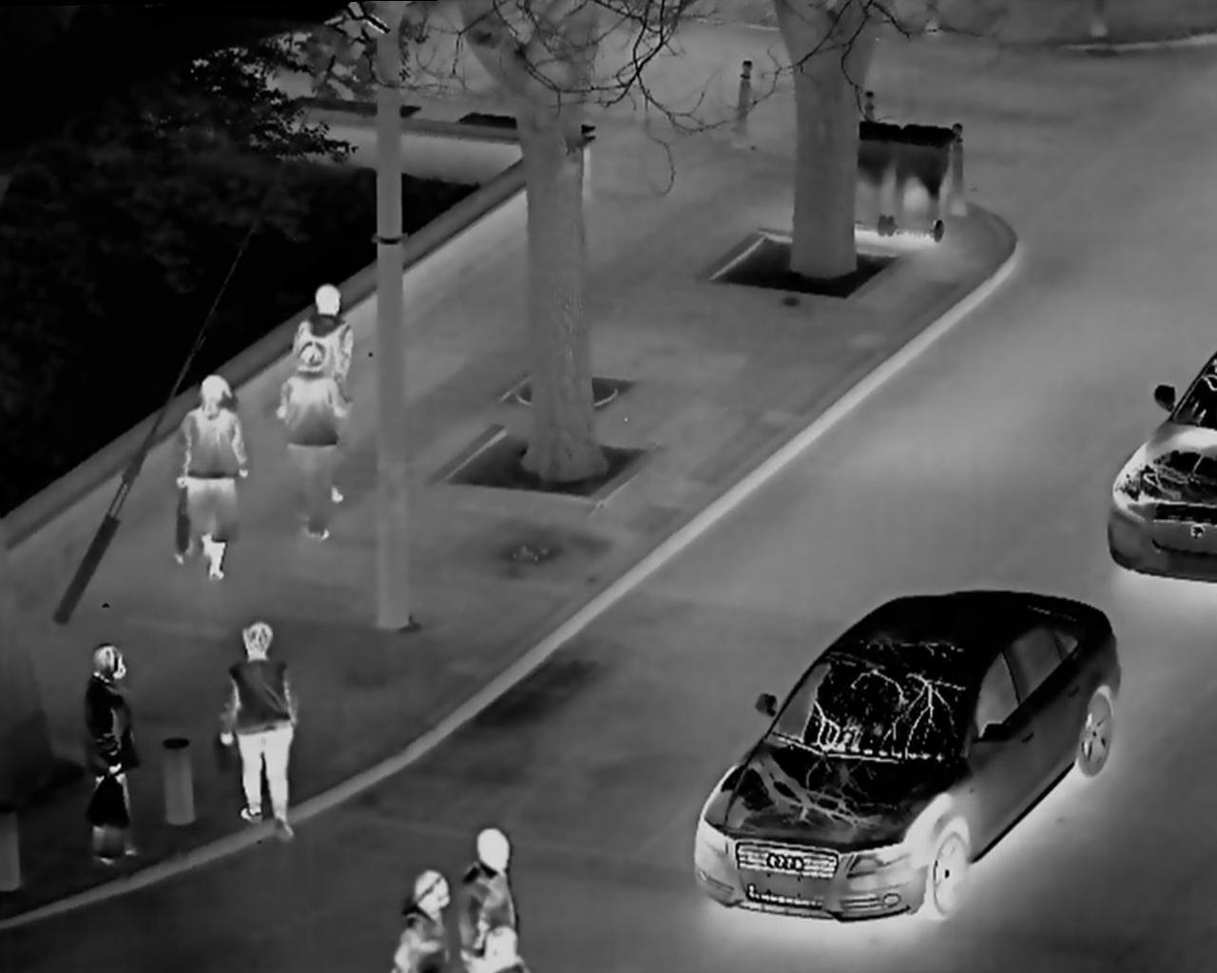person: (70, 637, 154, 868), (213, 616, 297, 837), (175, 353, 239, 584), (276, 341, 347, 542), (459, 805, 524, 958), (381, 851, 454, 972), (294, 275, 365, 392), (469, 925, 528, 971)
